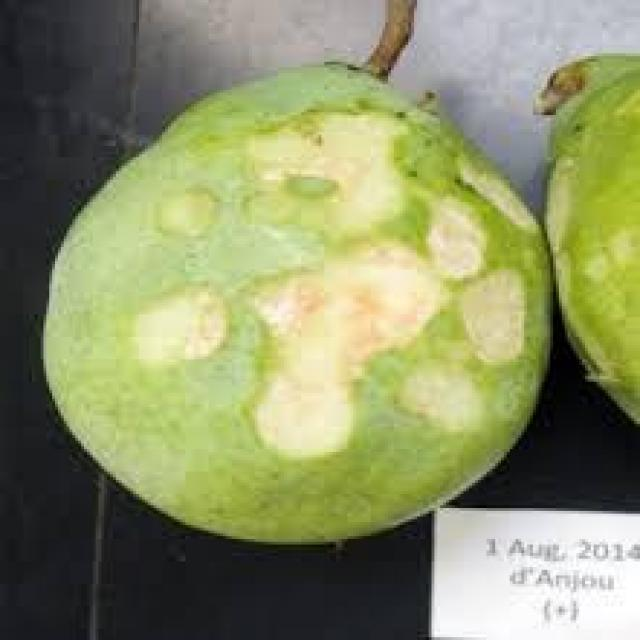Rotten: (44, 80, 554, 537)
